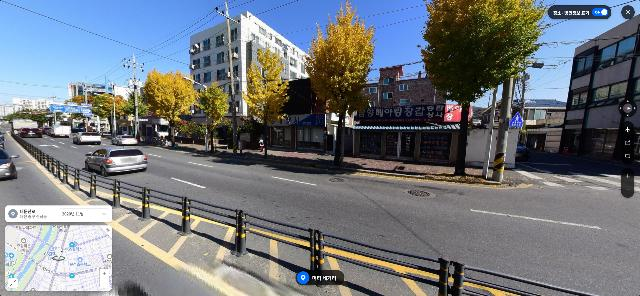ginkgo: (299, 8, 381, 166), (241, 48, 292, 159), (140, 68, 200, 148), (196, 80, 229, 152)
other: (416, 0, 556, 176), (111, 96, 147, 134)
